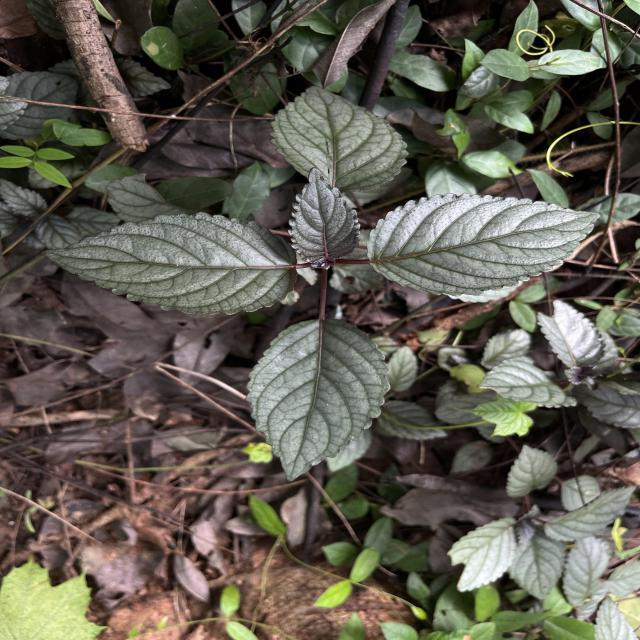Hemigraphis colorata: (38, 209, 301, 321), (364, 190, 604, 300), (242, 317, 395, 484), (266, 84, 411, 194), (286, 166, 365, 268), (475, 352, 579, 411), (540, 485, 639, 545)
